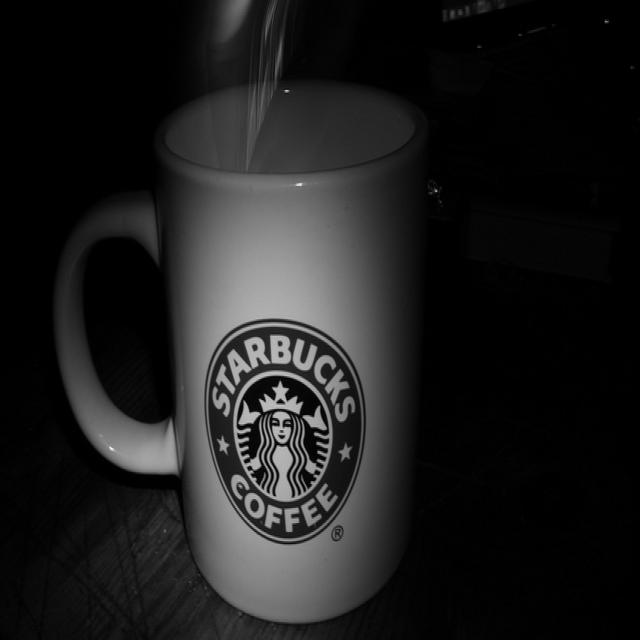Cup: (60, 44, 452, 633)
